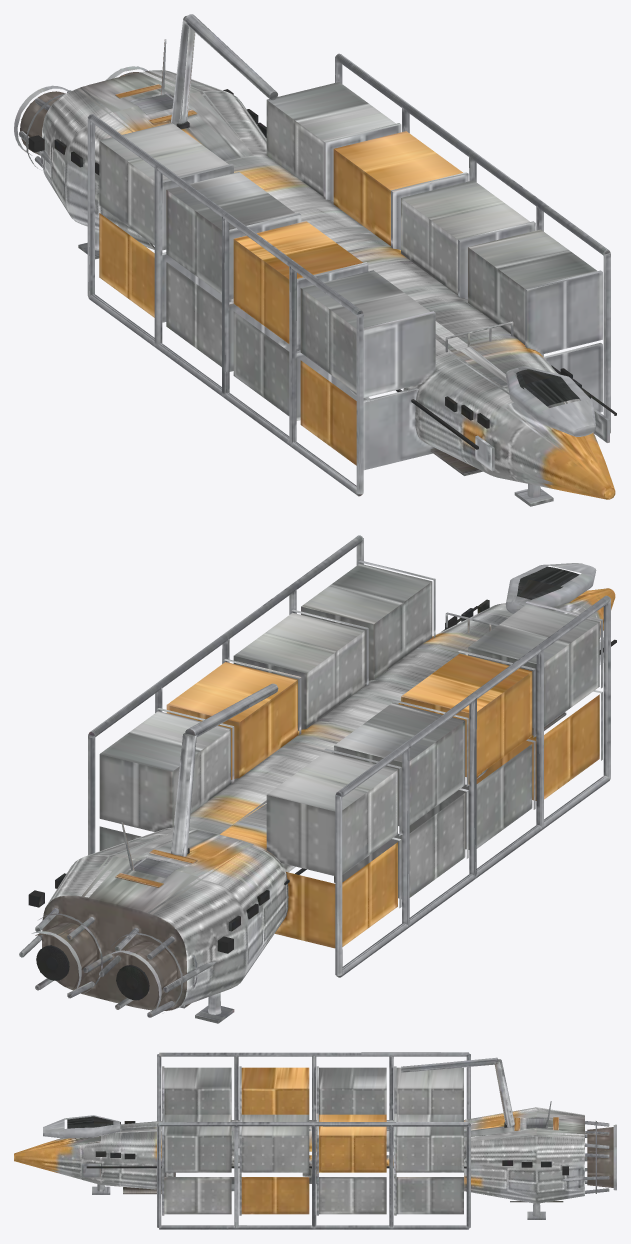
The model's file is sd_npc_cargo.glb.
3 renders of one model, top to bottom at view 1: azimuth 30°, elevation 25°; view 2: azimuth 150°, elevation 25°; view 3: azimuth 270°, elevation 25°, orthographic. The views are drawn at different scales.
Parts seen in each view (by area): view 1: LOD0_body, LOD1_body; view 2: LOD0_body, LOD1_body; view 3: LOD0_body, LOD1_body.
Part boxes in pixels (x1,y1,x2,y2): LOD0_body: (14,14,616,506); LOD1_body: (14,15,614,499); LOD0_body: (19,535,616,1023); LOD1_body: (19,535,614,1017); LOD0_body: (14,1052,616,1229); LOD1_body: (14,1052,616,1229).
Bounding box in the file's own units: 0.2803 × 0.2608 × 1.
Materials: 1 (1 with a texture image).
